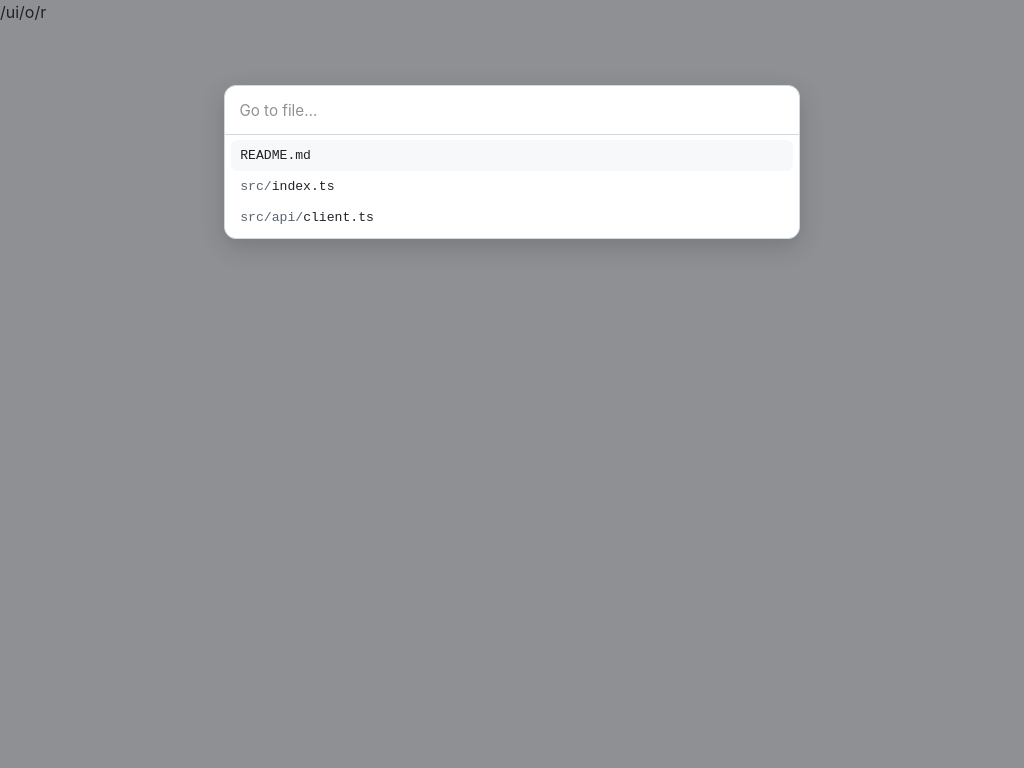
Test: GoToFile › navigates to the chosen file's blob route on Enter
Expected: the option "README.md" is shown, [231, 140, 793, 171]
Type "index" into the dropdown at (512, 111), box [239, 100, 785, 122]
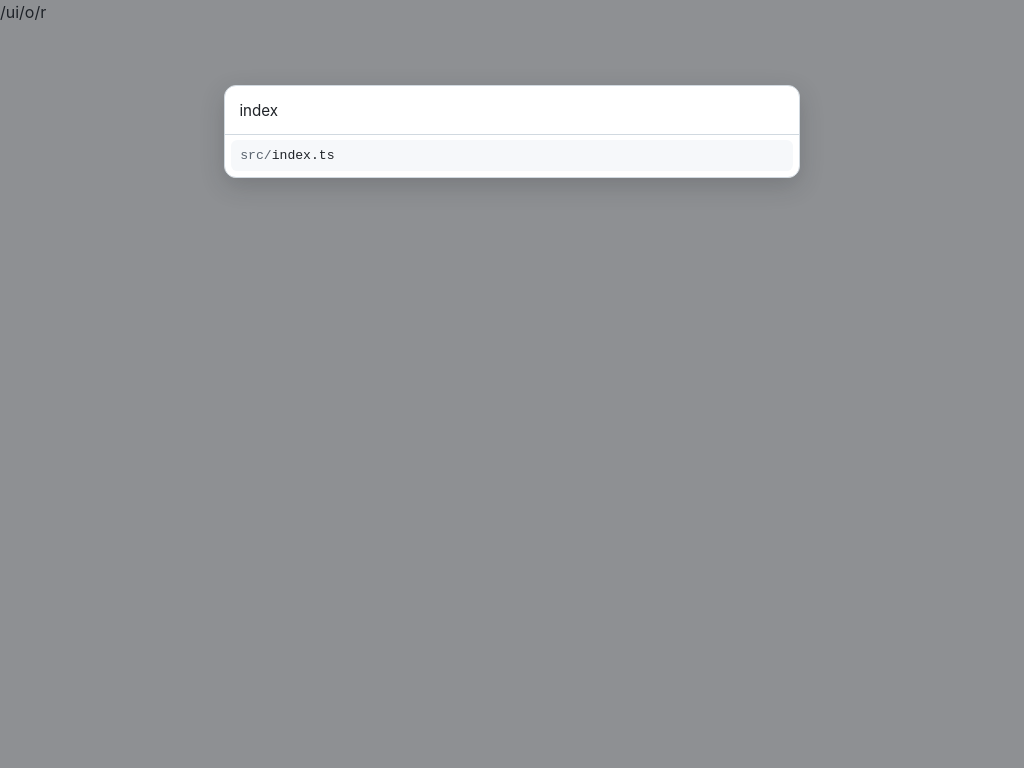
Expected: the option "src/index.ts" is shown, [231, 140, 793, 171]
Press Enter in the dropdown, box [239, 100, 785, 122]
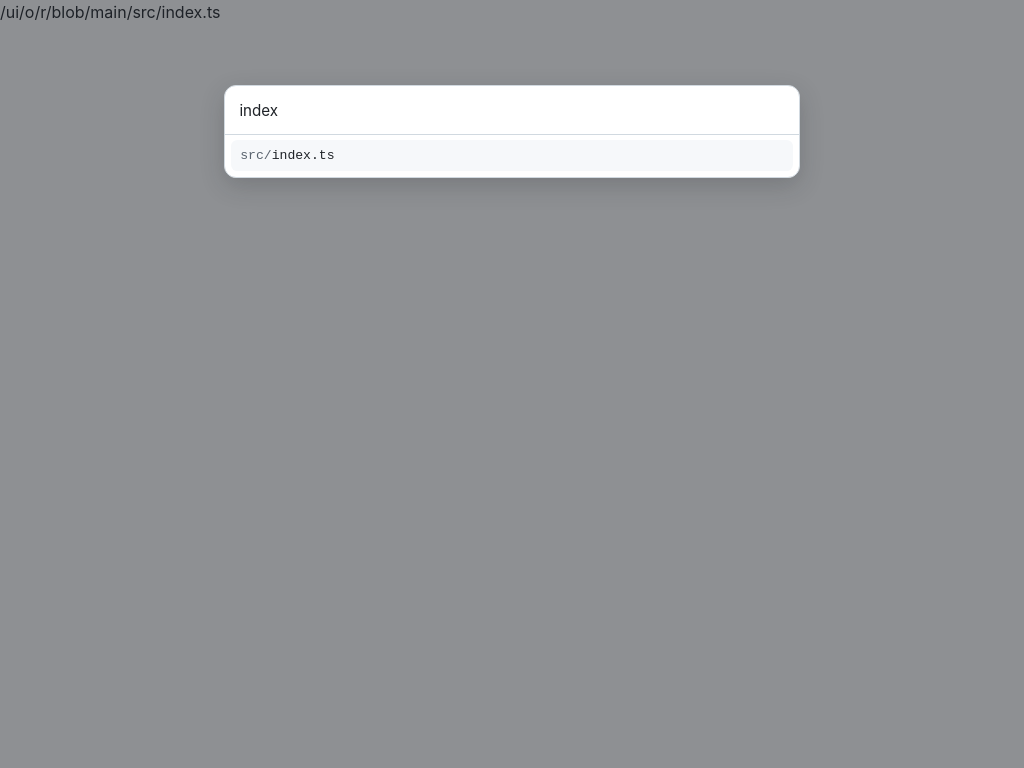
Now the text with test id "loc" reads "/ui/o/r/blob/main/src/index.ts", box [0, 2, 220, 22]
